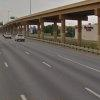Bridge: (3, 6, 95, 33)
